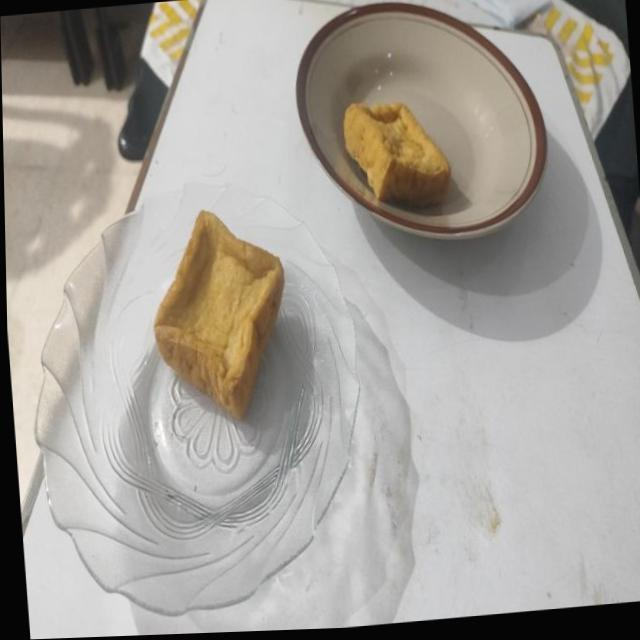tahu_goreng: (154, 210, 284, 418), (344, 102, 451, 207)
